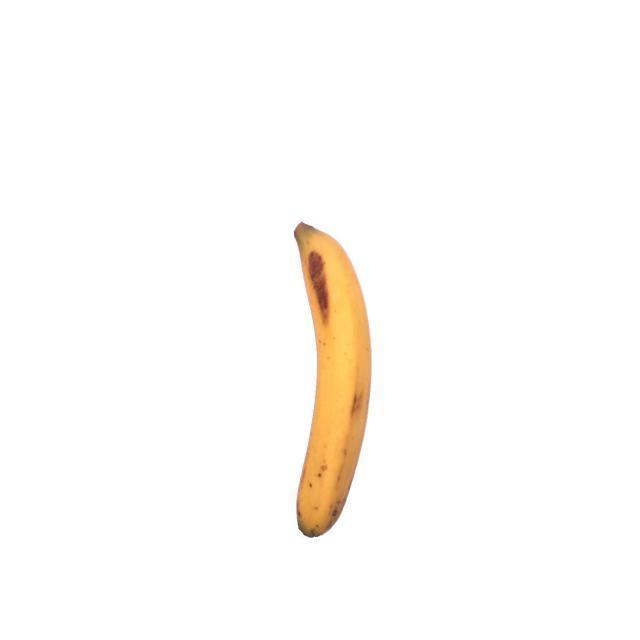Banana: (292, 218, 374, 542)
